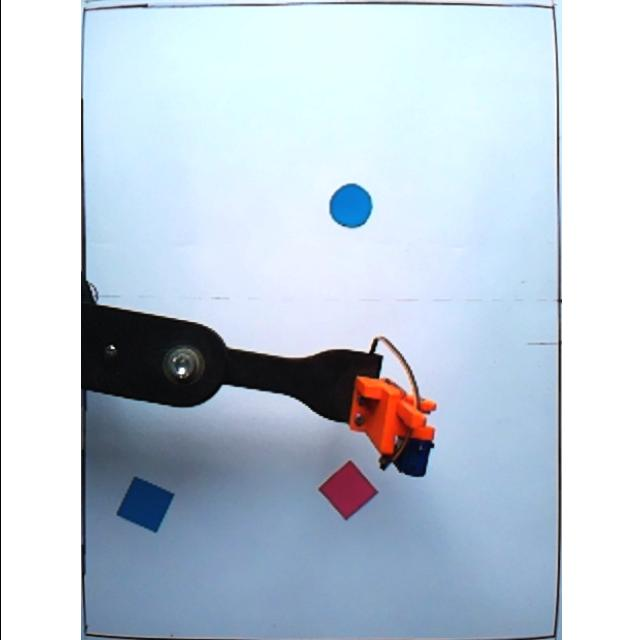blueCircle: (322, 182, 376, 230)
blueSquare: (114, 472, 174, 536)
pinkSquare: (314, 460, 378, 522)
